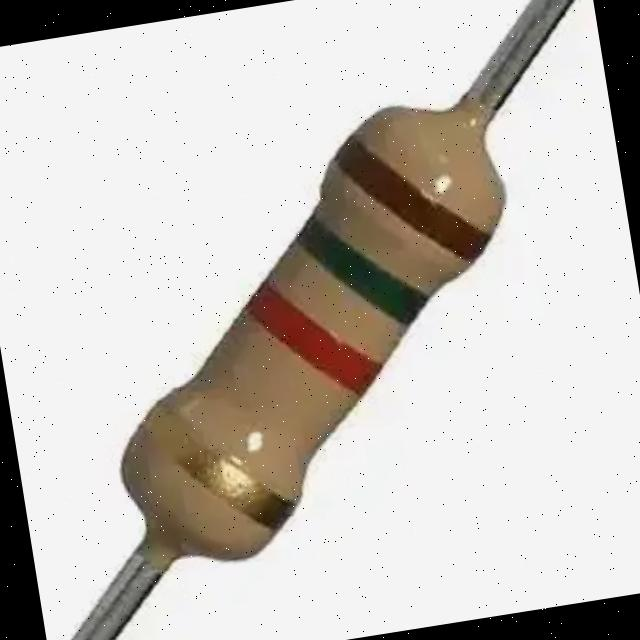brown: (320, 123, 498, 275)
gold: (132, 388, 308, 538)
green: (278, 200, 439, 336)
red: (216, 262, 399, 418)
resistor: (31, 2, 587, 636)
